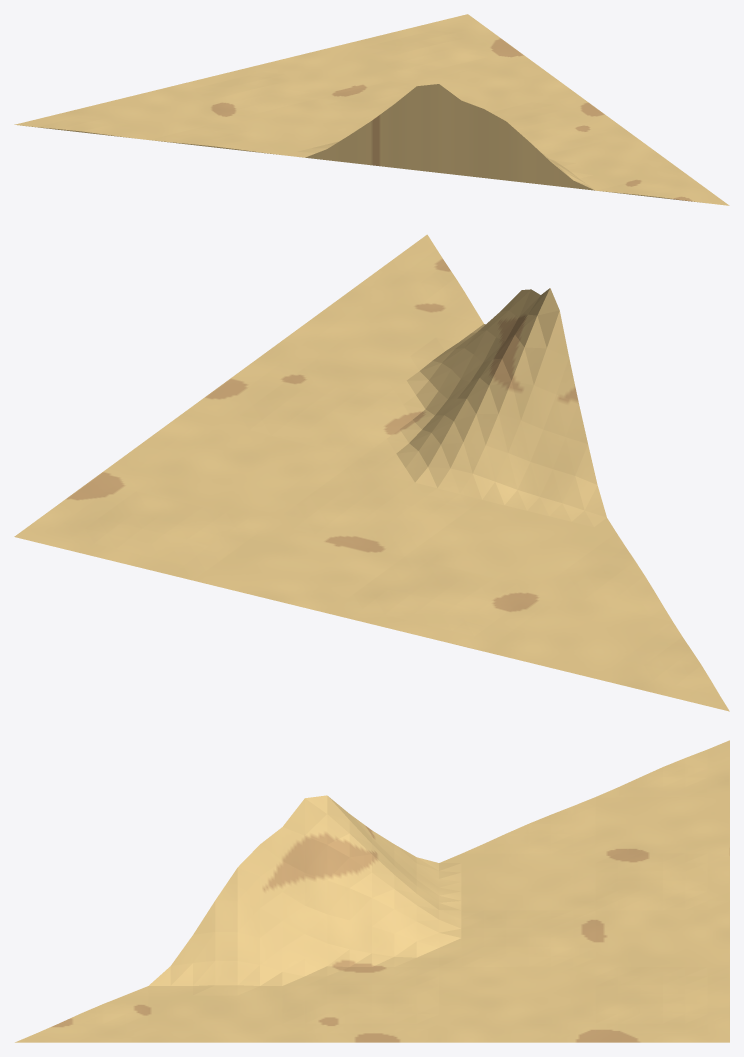
Rendered from Desert_Mountains_10_SE.obj.
The picture shows the model from 3 angles, top to bottom: view 1: azimuth 30°, elevation 25°; view 2: azimuth 150°, elevation 25°; view 3: azimuth 270°, elevation 25°; orthographic projection. The views are drawn at different scales.
Size of the model in its own units: 10 by 1.87 by 10.
Materials: 1 (1 with a texture image).
